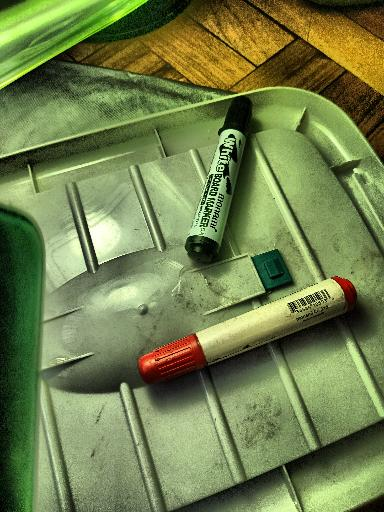marcador negro: (185, 97, 252, 263)
marcador rojo: (138, 277, 357, 385)
